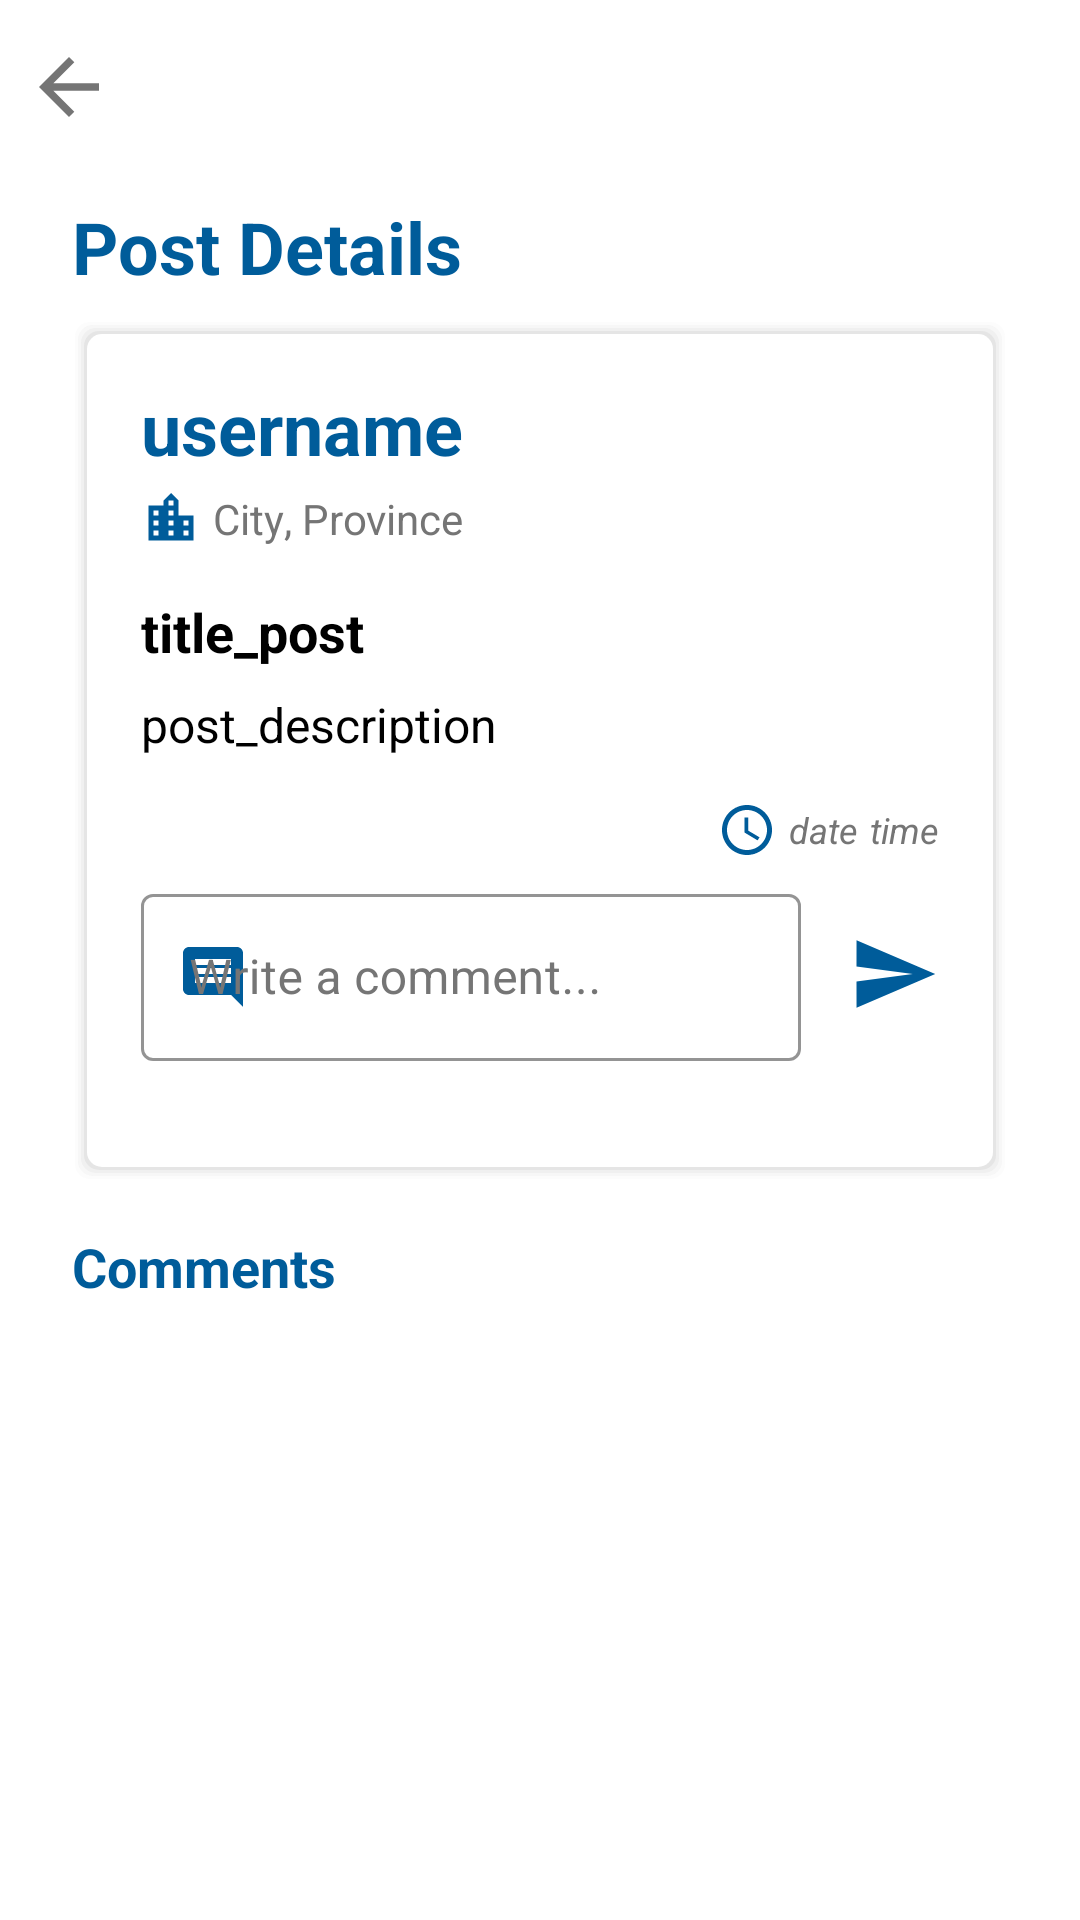

Icon bounding boxes for this 1080 × 1920 phone screenshot, format (x1, y1, x2, y2):
arrow back: (39, 57, 99, 117)
send: (856, 940, 935, 1008)
